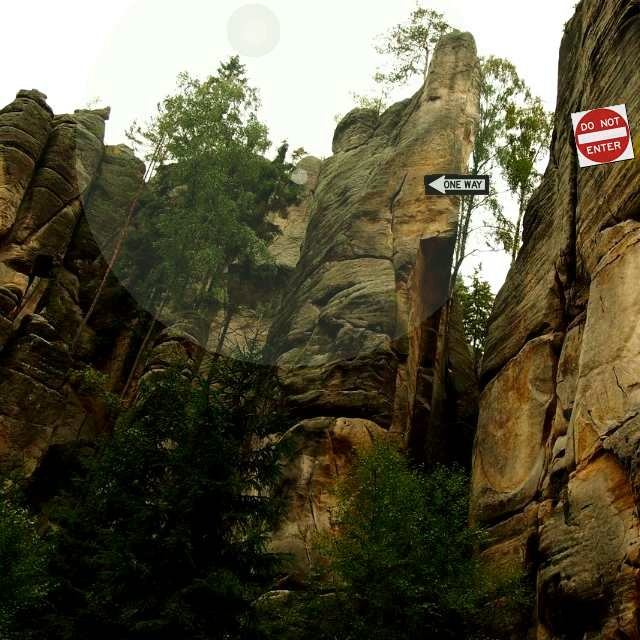DO_NOT_ENTER: (570, 103, 635, 168)
ONE_WAY_ left: (424, 174, 489, 195)
